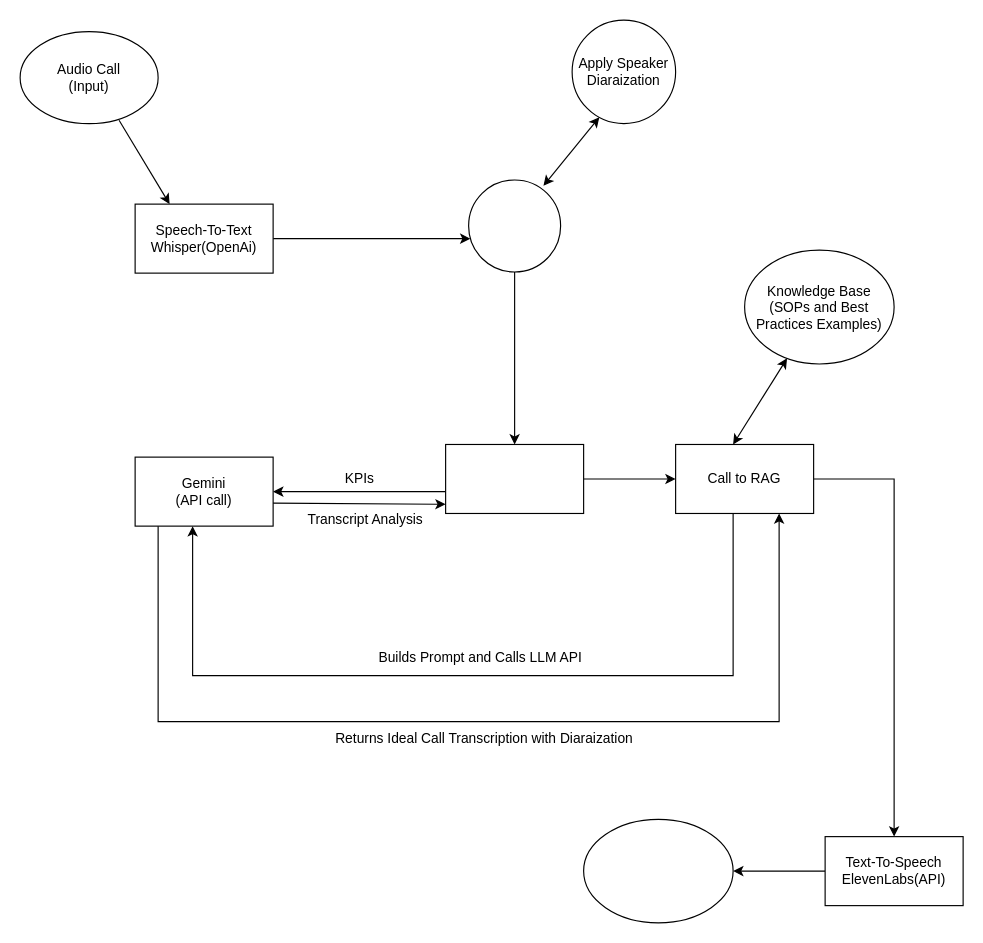
This 983x943 diagram has some shape labels left out. The box of each missing label's shape, as (x1, y1, x2, y2) in pixels:
Call Analysis: (444, 443, 584, 513)
Call Transcription: (467, 179, 561, 272)
Humanized Audio Call (Output): (582, 818, 733, 923)
